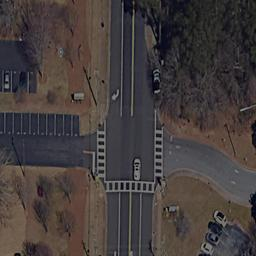Car: (198, 209, 232, 251), (152, 70, 161, 96), (132, 156, 142, 179), (2, 68, 11, 90)
Crosswalk: (94, 117, 106, 183), (153, 112, 164, 182), (105, 182, 154, 193)
Double Solid Yellow Line: (129, 1, 137, 117), (127, 191, 132, 256), (82, 149, 94, 154)
Right Turn Arrow: (110, 86, 119, 103)
Solid White Line: (119, 3, 125, 117), (116, 193, 121, 256), (138, 194, 139, 256)
Stop Line: (90, 155, 97, 175), (168, 134, 172, 159)
